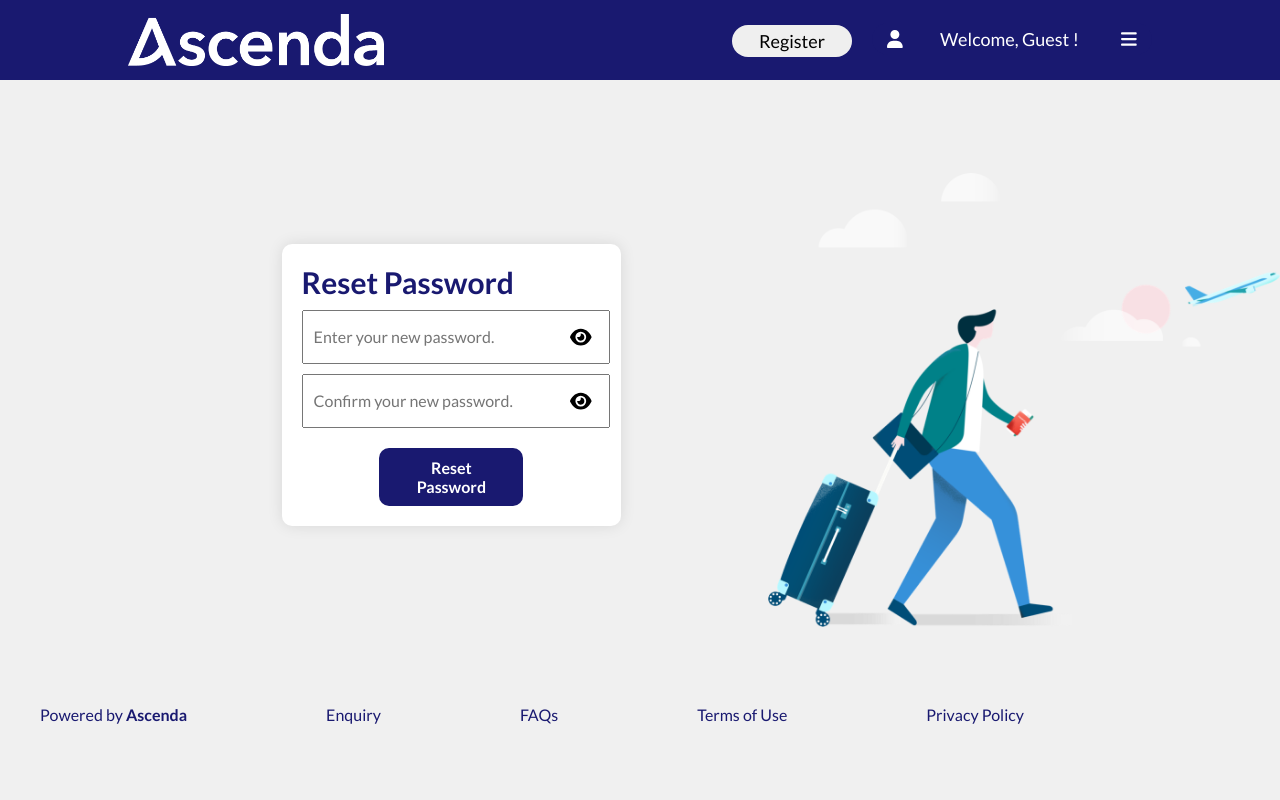
Test: Reset Password Page Test › Shows error message when new password is same as old password
Type "OldPassword@123" into the password field with placeholder "Enter your new password.".
click(457, 337); type("OldPassword@123")  # box [302, 310, 611, 364]
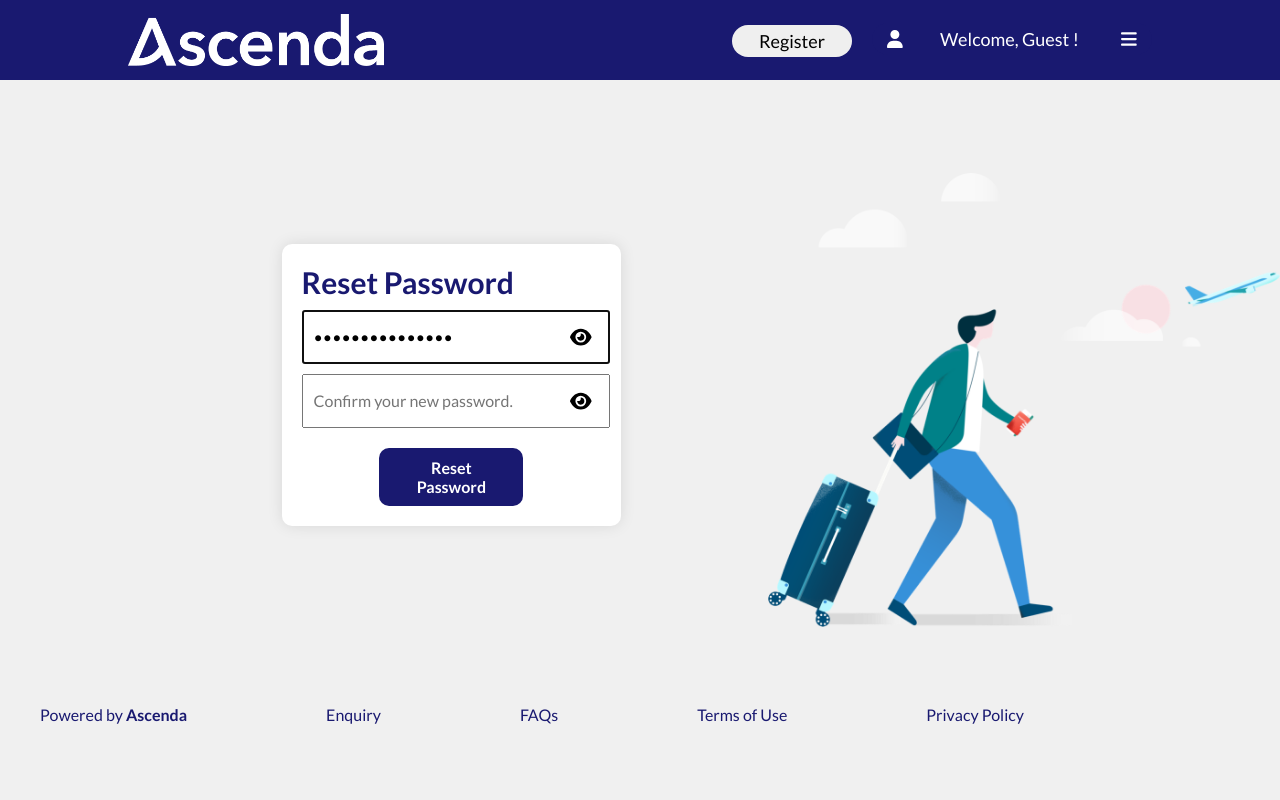
Type "OldPassword@123" into the password field with placeholder "Confirm your new password.".
click(457, 401); type("OldPassword@123")  # box [302, 374, 611, 428]
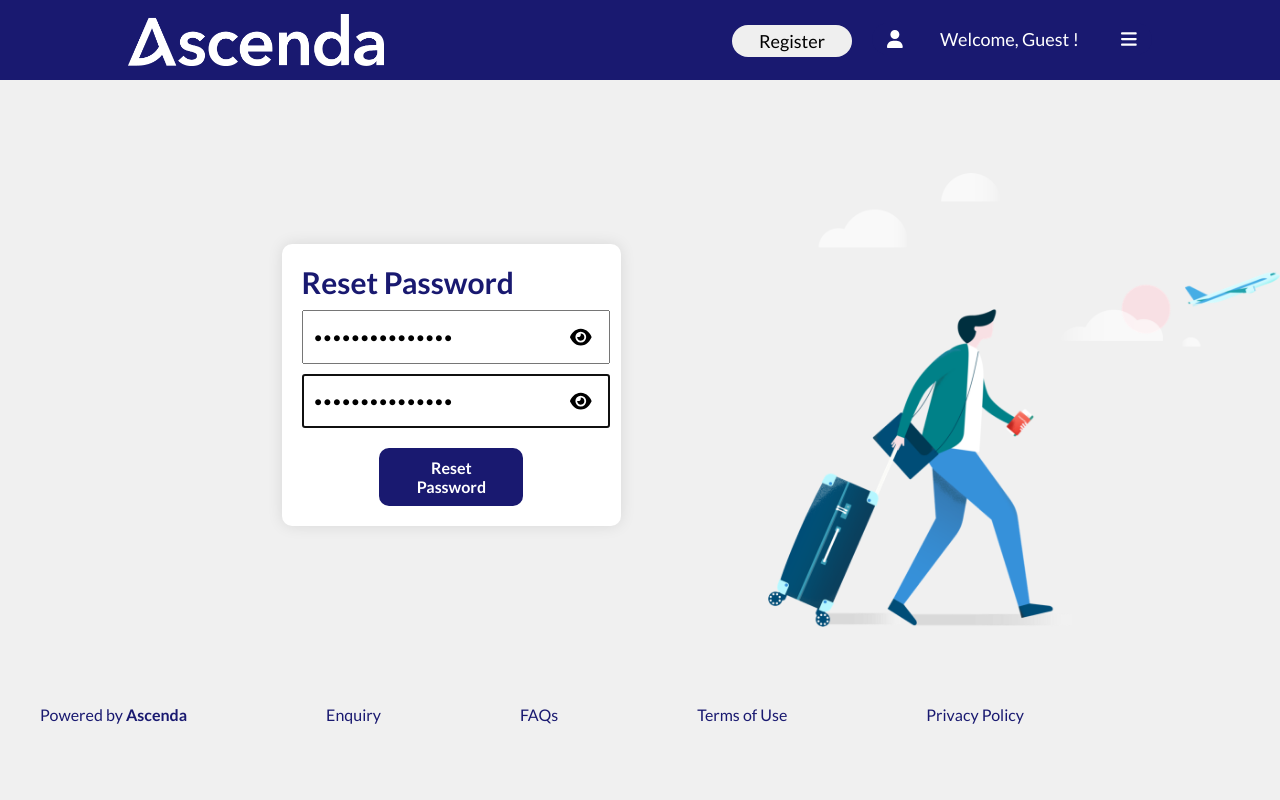
Click the button with test id "resetPwdButton".
click(452, 477)  # box [380, 448, 524, 506]
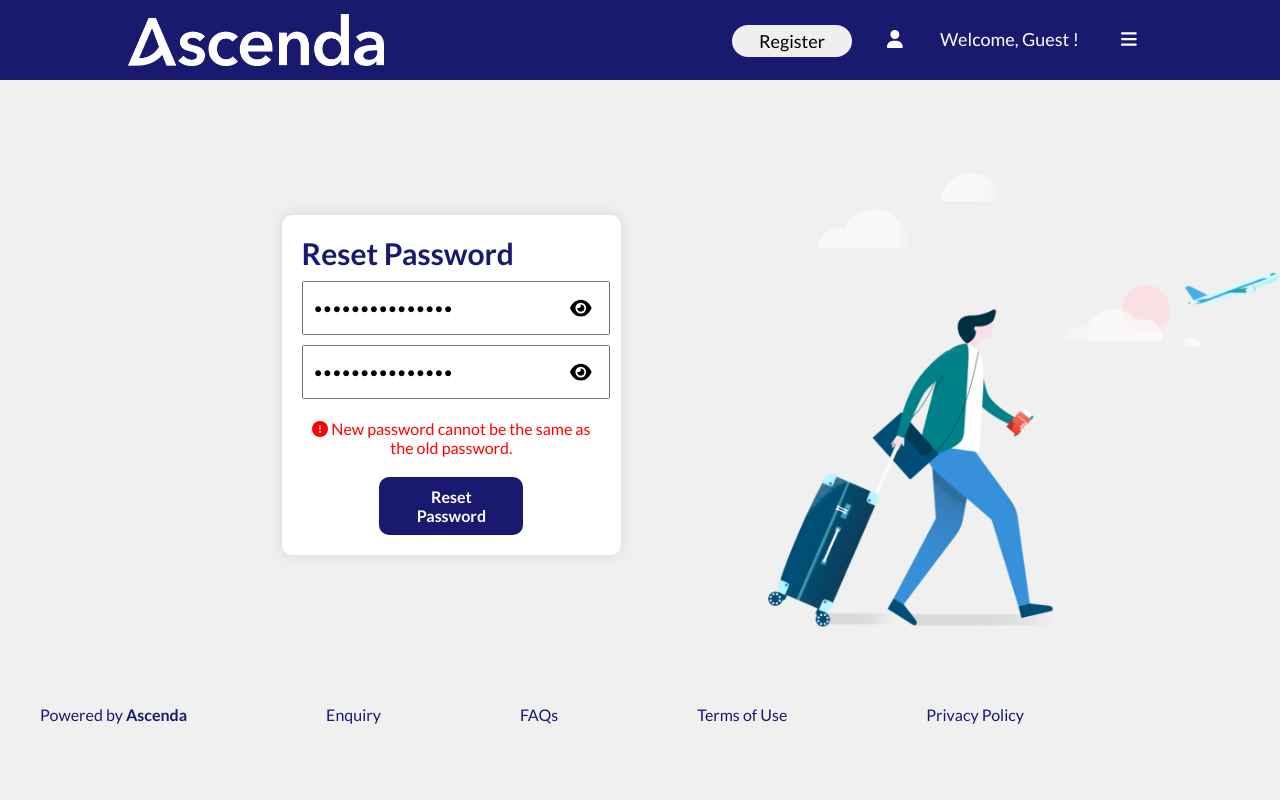
Now the element with class "error" reads "New password cannot be the same as the old password.", box [302, 419, 602, 457]
